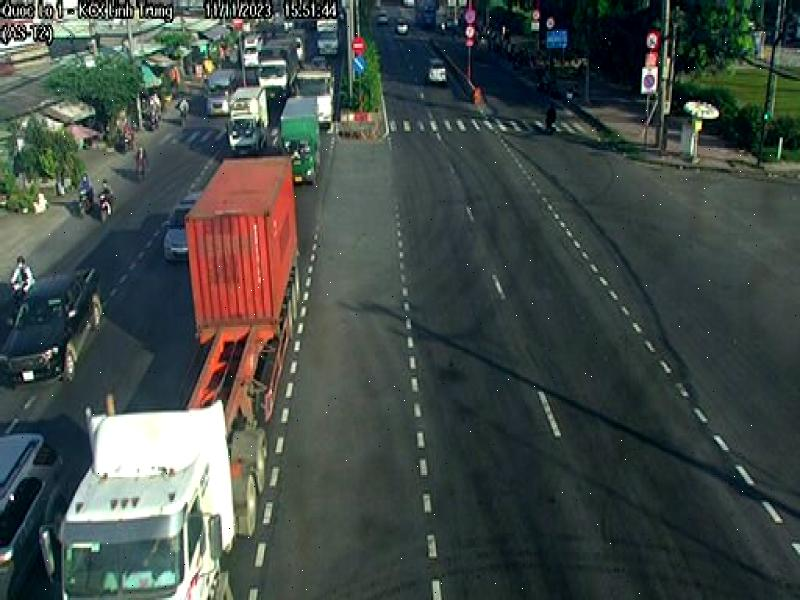truck: (44, 154, 304, 600), (282, 93, 321, 190), (296, 56, 336, 131), (230, 84, 267, 158)
